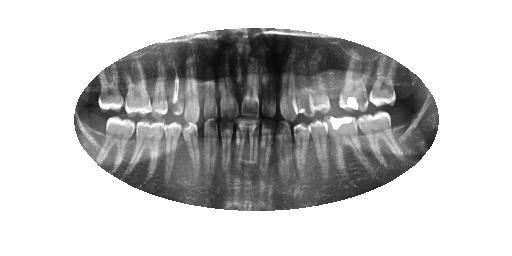i10decay: (215, 111, 236, 184)
i11decay: (196, 113, 221, 184)
i12healthy: (177, 118, 205, 181)
i13healthy: (158, 118, 184, 183)
i14healthy: (122, 119, 169, 187)
i15healthy: (89, 111, 140, 183)
i2healthy: (355, 104, 406, 169)
i3healthy: (322, 106, 373, 183)
i4healthy: (306, 115, 334, 183)
i5healthy: (290, 116, 314, 187)
i6decay: (270, 113, 296, 189)
i7decay: (254, 112, 278, 186)
i8decay: (243, 115, 263, 179)
i9decay: (228, 113, 250, 177)
u10decay: (198, 49, 222, 124)
u11healthy: (179, 48, 203, 128)
u12decay: (164, 53, 188, 120)
u13decay: (146, 54, 173, 125)
u14healthy: (121, 61, 158, 123)
u15healthy: (92, 66, 127, 117)
u2healthy: (368, 49, 398, 113)
u3healthy: (334, 50, 373, 117)
u4healthy: (304, 47, 335, 118)
u5healthy: (288, 47, 315, 121)
u6healthy: (275, 53, 302, 124)
u7d: (257, 50, 281, 123)
u8decay: (238, 51, 261, 122)
u9decay: (214, 48, 241, 126)
